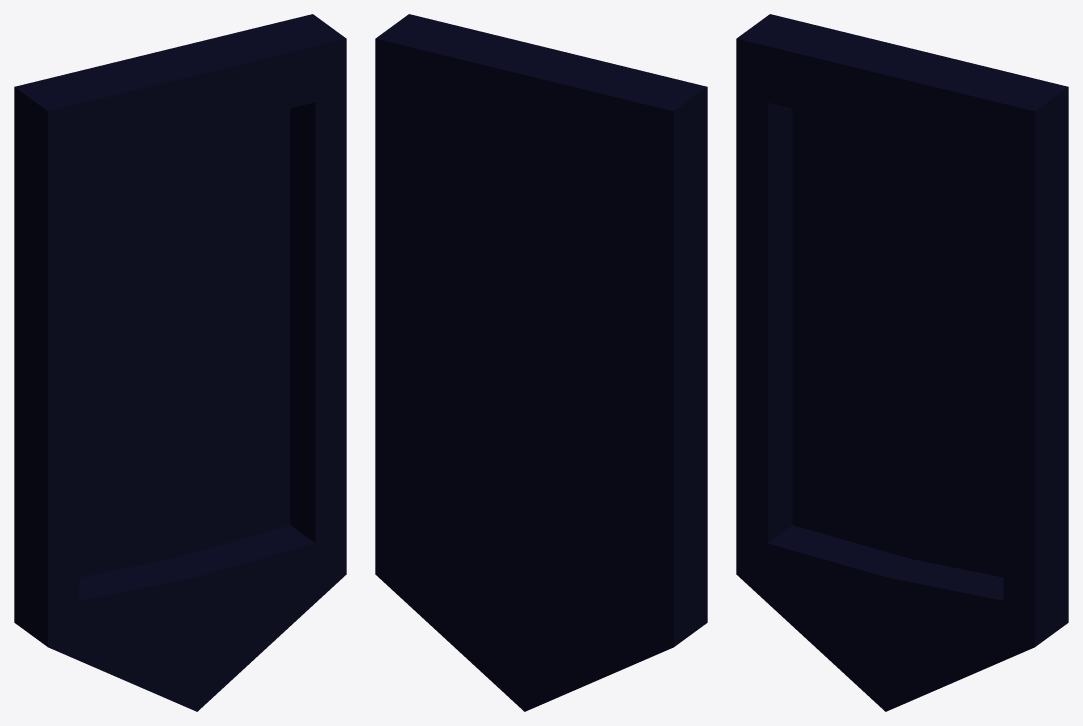
The model's file is markerr.gltf.
The picture shows the model from 3 angles, left to right: view 1: azimuth 30°, elevation 25°; view 2: azimuth 150°, elevation 25°; view 3: azimuth 330°, elevation 25°; orthographic projection.
Visible parts, largest first — view 1: Cube; view 2: Cube; view 3: Cube.
Boxes of the visible parts, <box> form: Cube: <box>14,14,346,711</box>; Cube: <box>375,14,707,711</box>; Cube: <box>736,14,1068,711</box>.
Bounding box in the file's own units: 2.7 × 5.51 × 0.5263.
